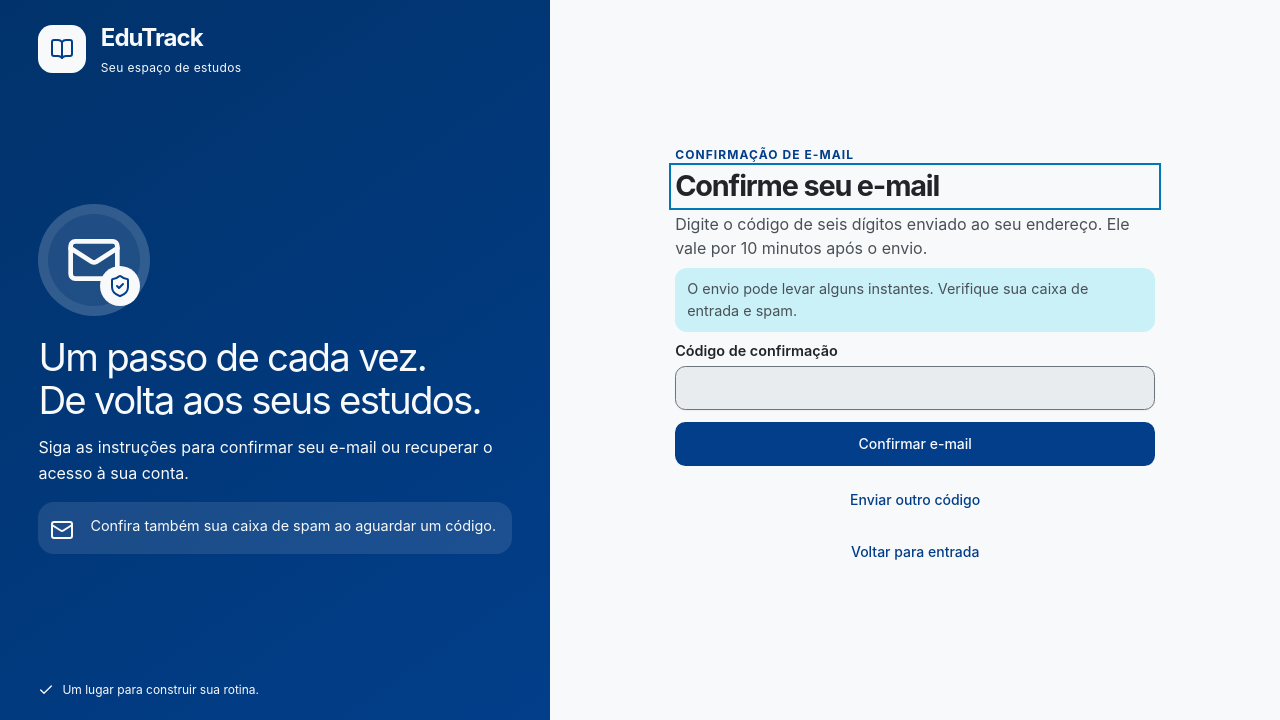
Scenario: email access pages › shows an expired code and the resend waiting period without false success
Type "123456" into the field labelled "Código de confirmação".
click(915, 388); type("123456")  # box [675,366,1155,410]
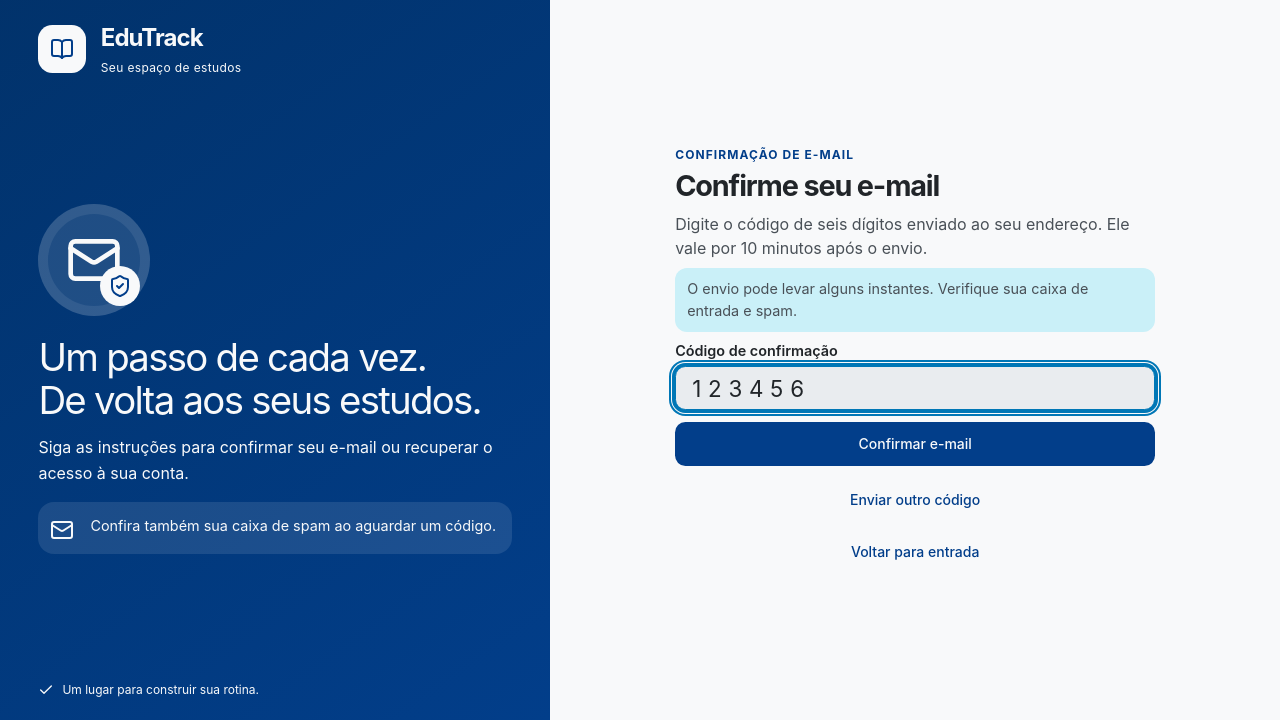
Click the button "Confirmar e-mail".
click(915, 444)  # box [675,422,1155,466]
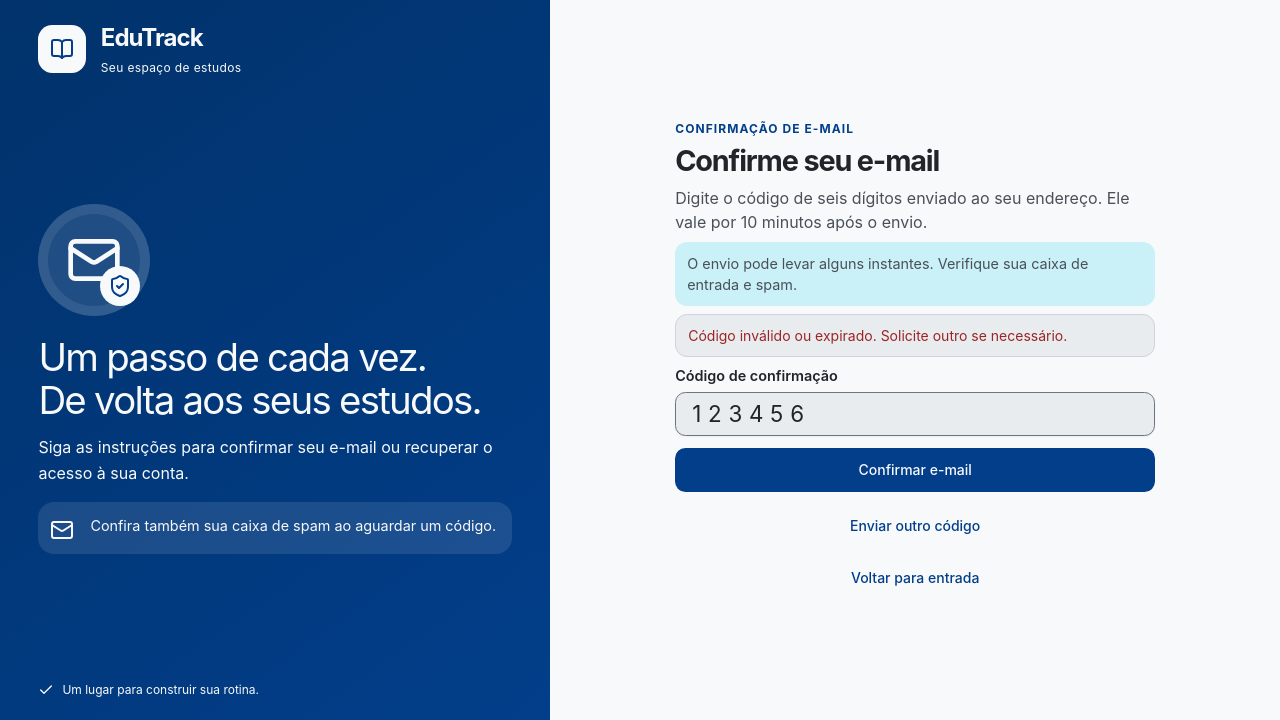
Result: the message "Código inválido ou expirado. Solicite outro se necessário." is shown at [675,314,1155,357]
Click the button "Enviar outro código".
click(915, 526)  # box [675,504,1155,548]
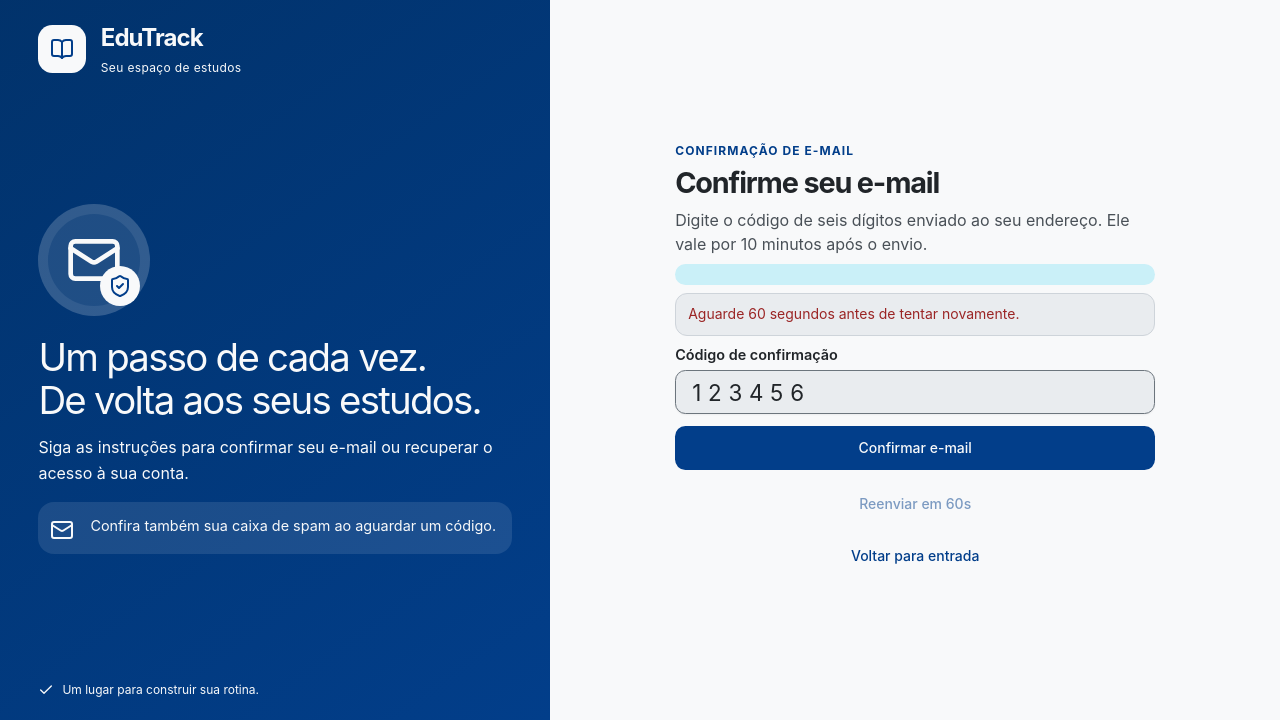
Result: the button "Reenviar em 60s" is disabled at [675,482,1155,526]
